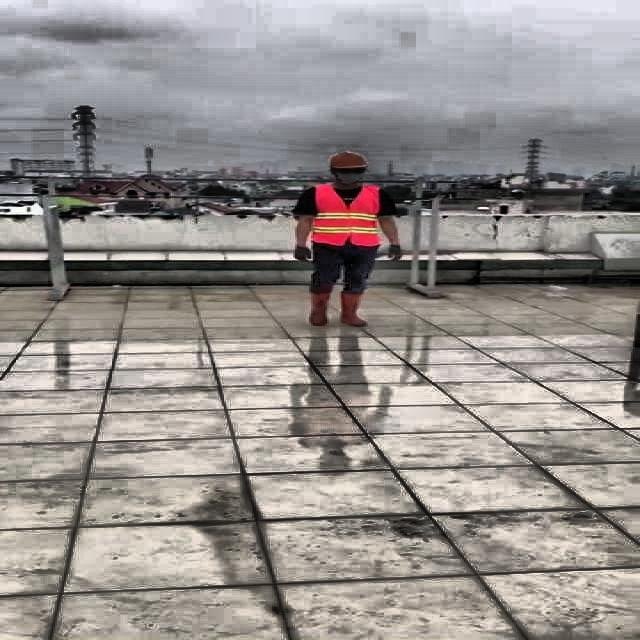safety_helmet: (326, 150, 368, 168)
safety_jacket: (310, 184, 380, 246)
